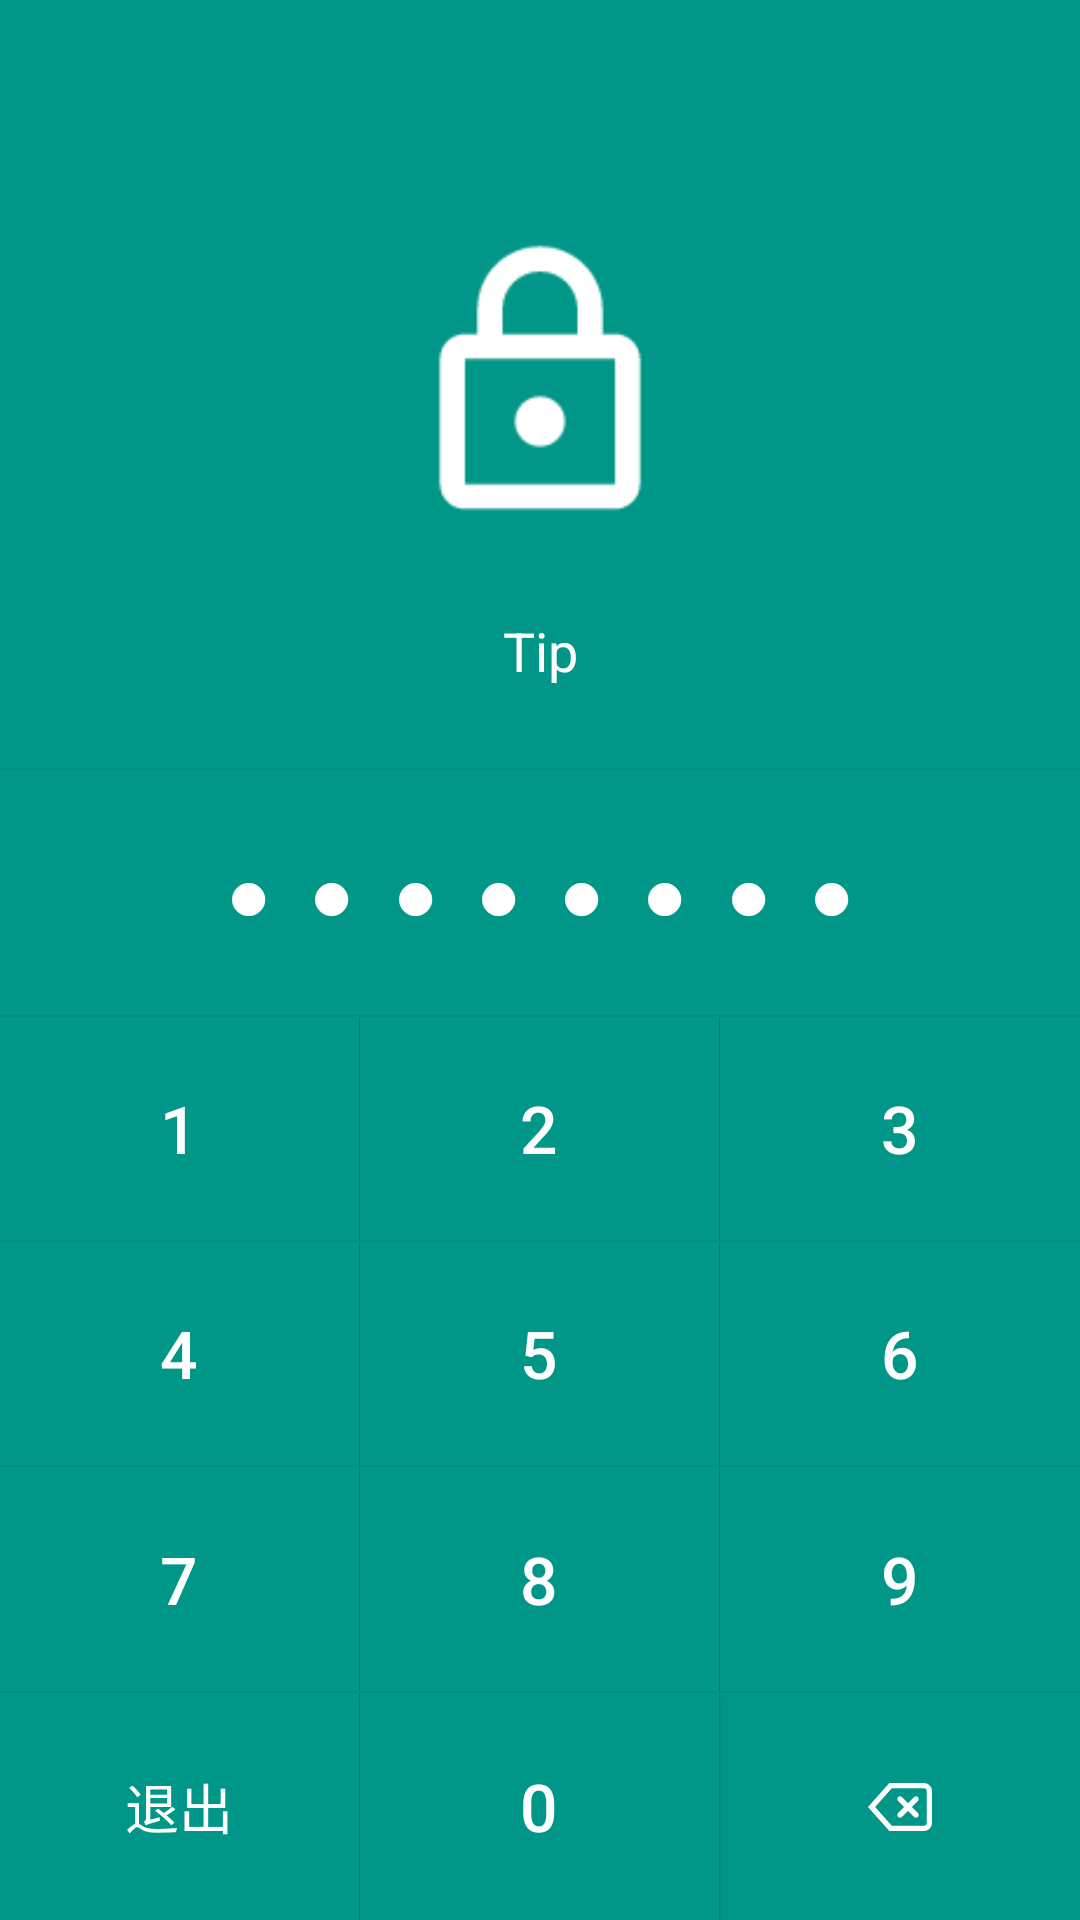

Locate icon controls on the screen. Image size 1080x1920, boxes as bbox=[x1, y1, x2, y2].
delete: bbox=[868, 1783, 932, 1831]
lock: bbox=[438, 245, 642, 511]
